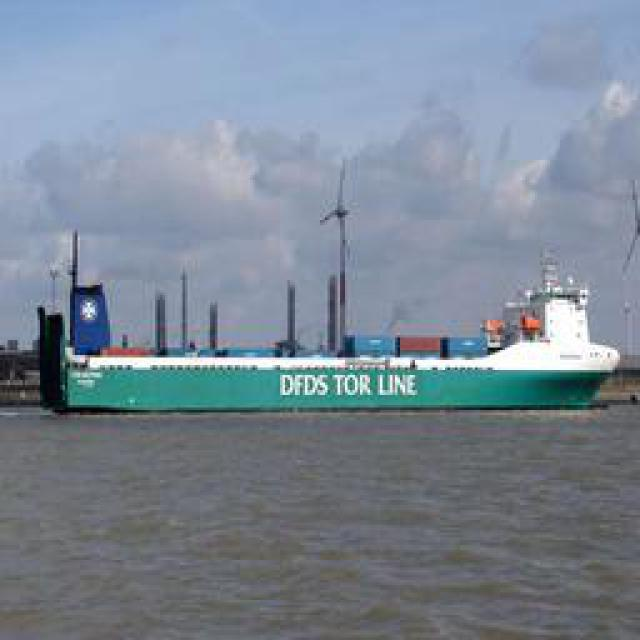Ship: (42, 254, 620, 417)
